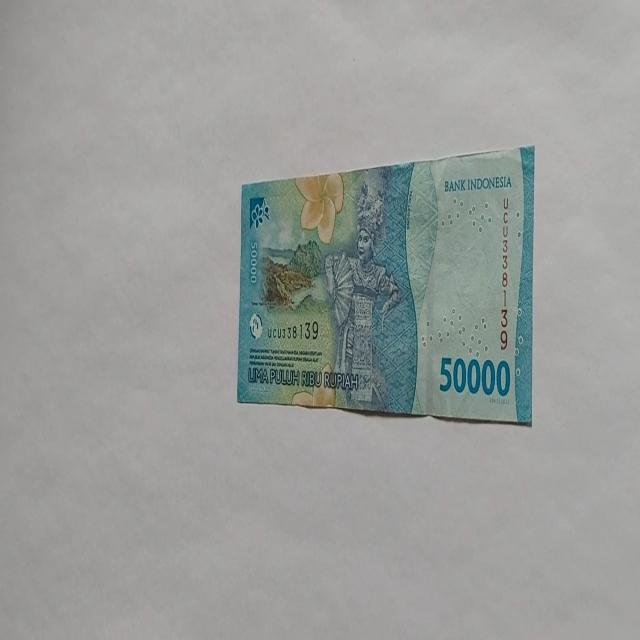lima puluh ribu rupiah: (236, 143, 535, 426)
